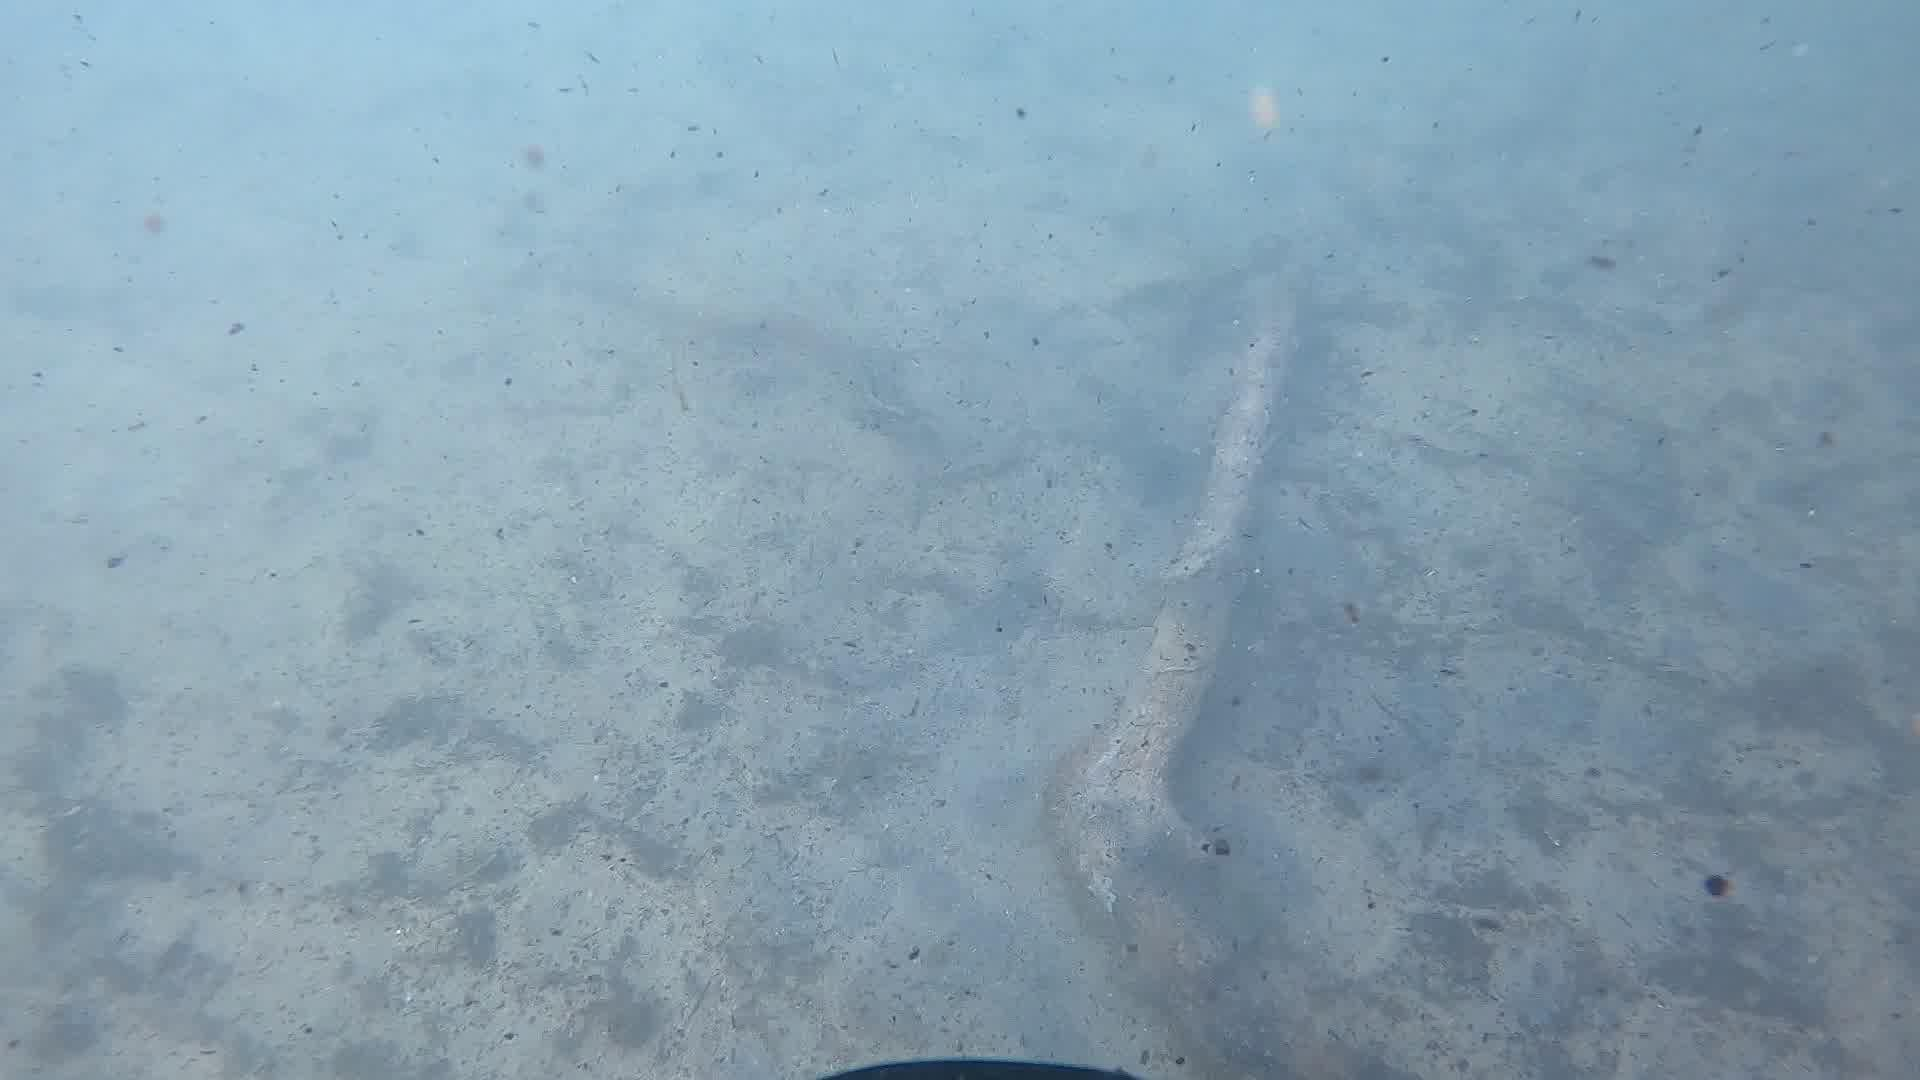wood: (1052, 301, 1295, 928)
